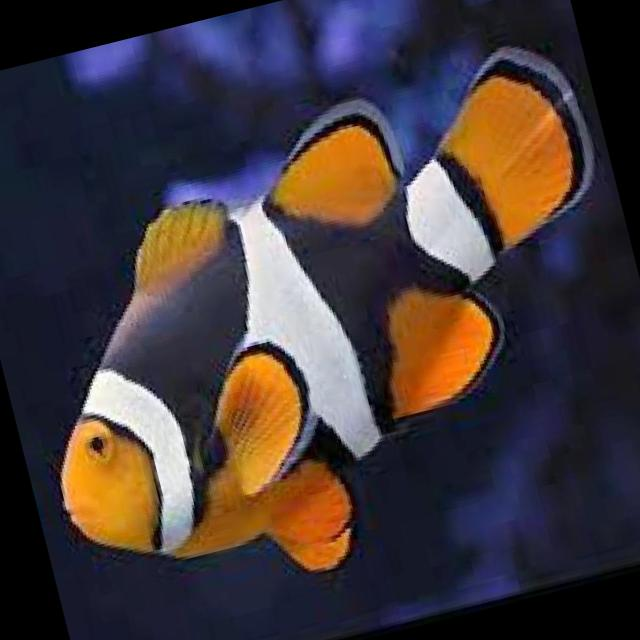ClownFish: (0, 27, 640, 636)
